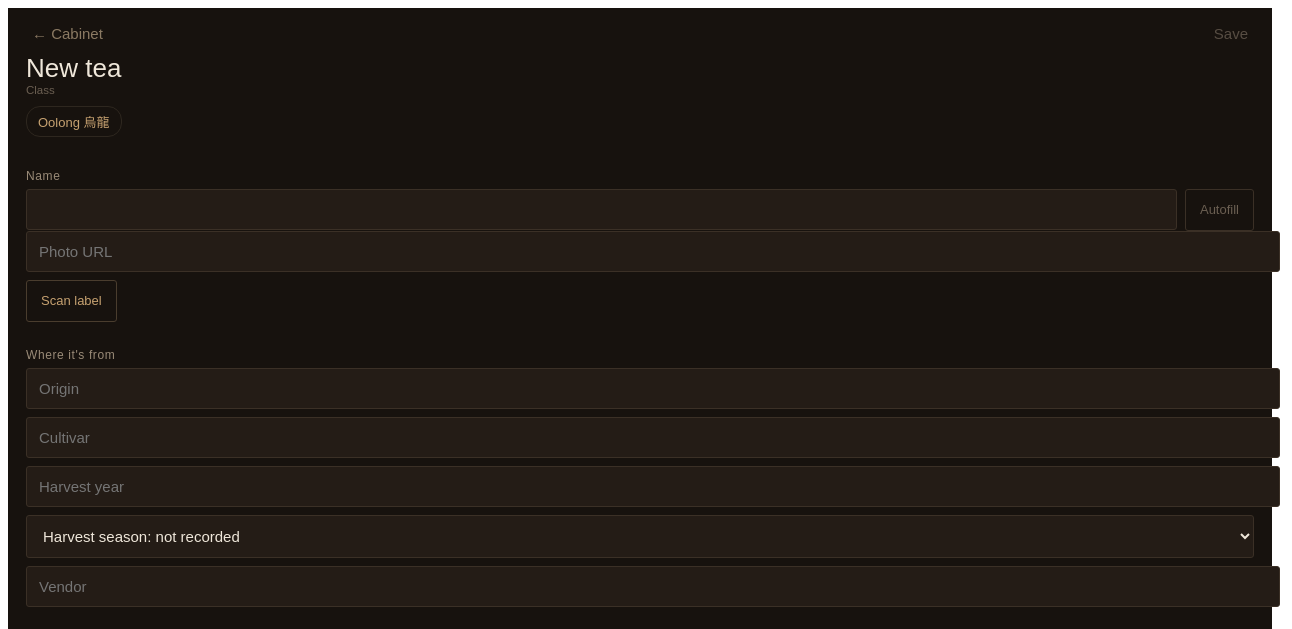
NewTeaPage › keeps the draft and shows the error when the save is rejected
This screenshot has width=1292, height=629.
Step 1. Type "Da Hong Pao" into the field with test id "field-name" → point(602, 209), box [26, 189, 1177, 230]
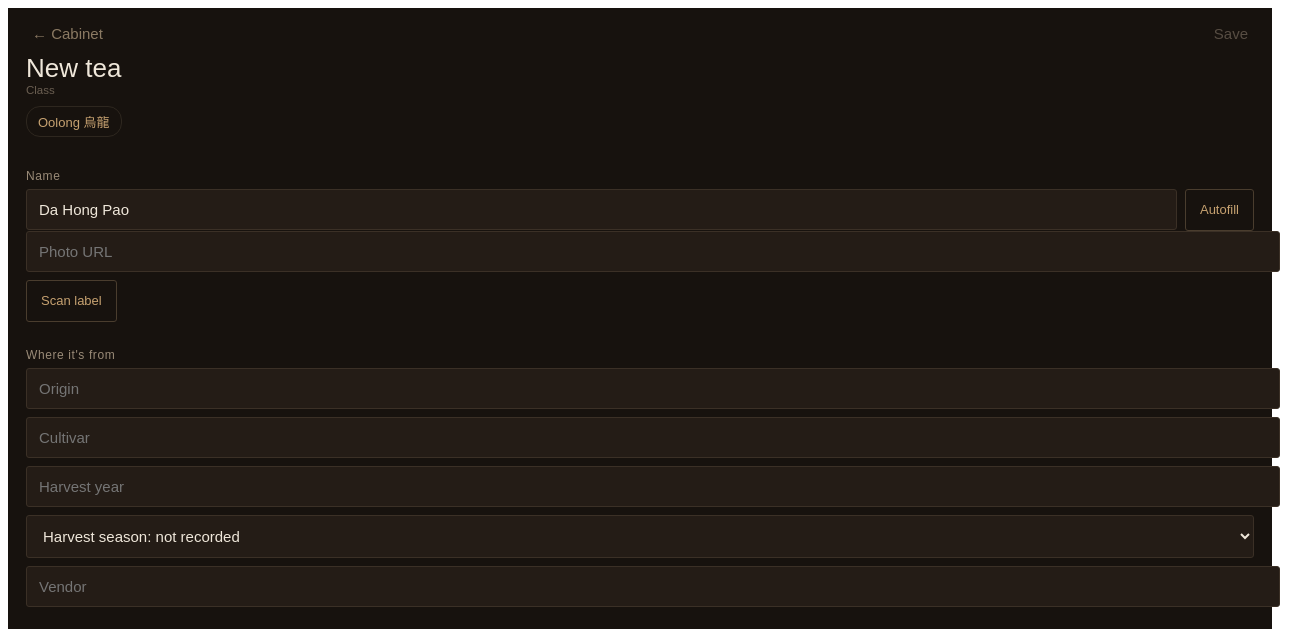
Step 2. Click the button with test id "chip-oolong" → point(74, 121), box [26, 106, 122, 137]
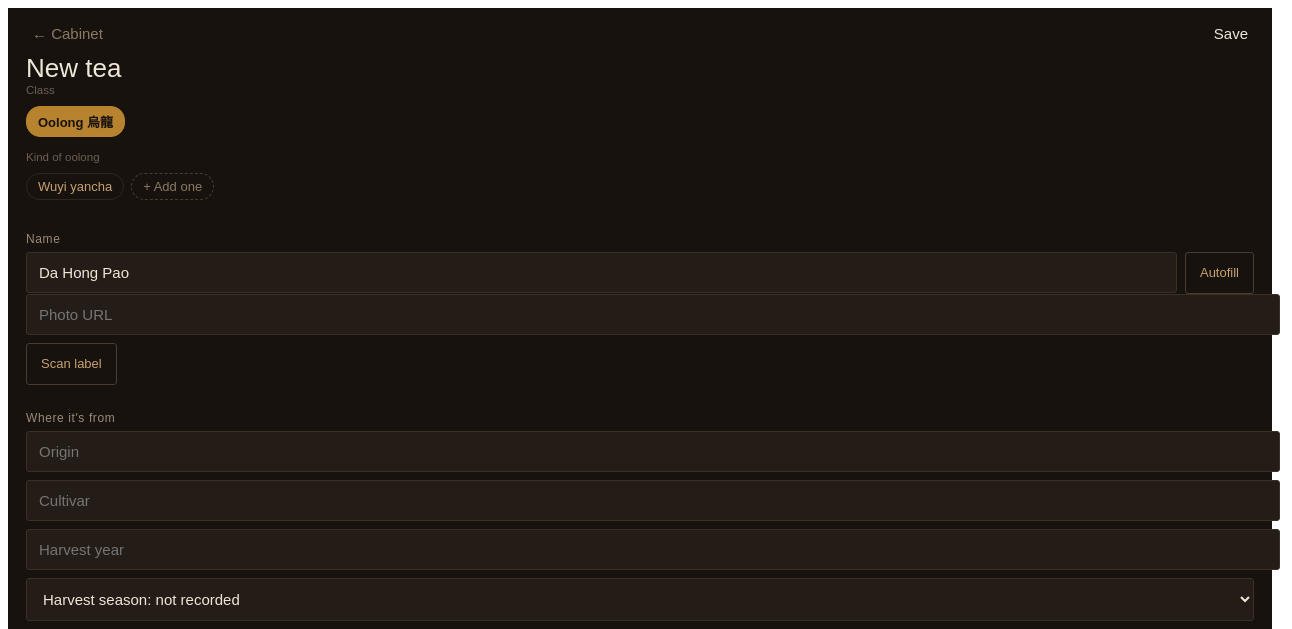
Step 3. Click the button with test id "new-save" → point(1231, 34), box [1208, 24, 1254, 43]
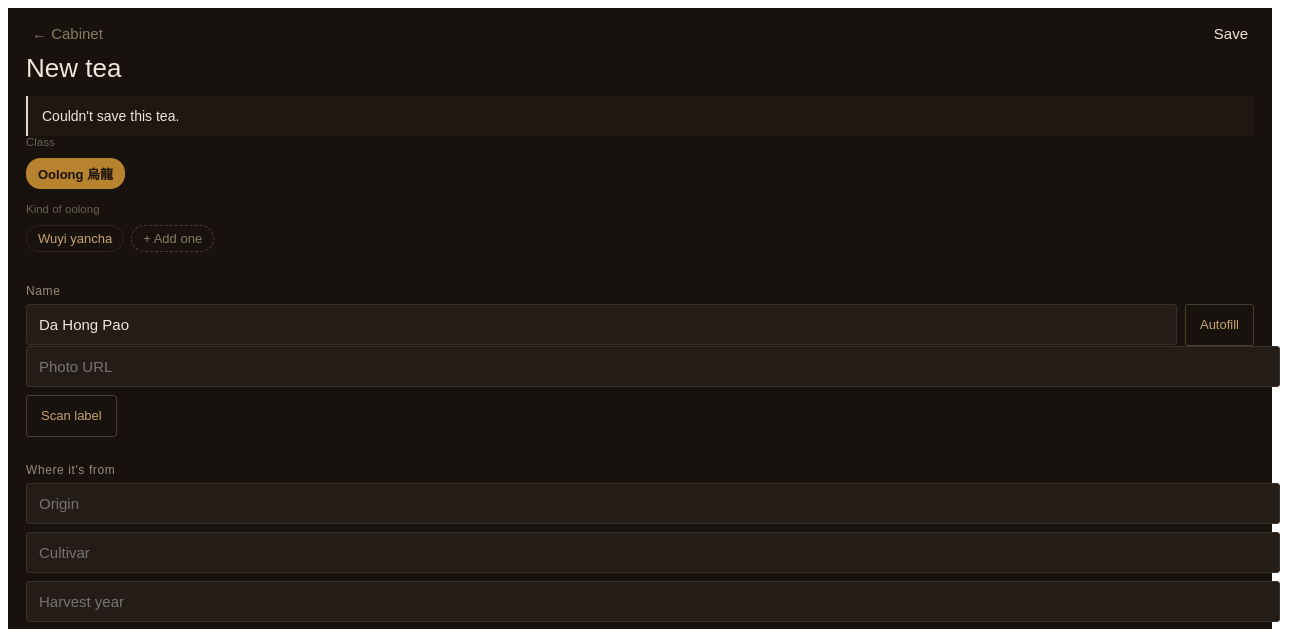
Now the text with test id "new-error" reads "Couldn't save this tea.", box [42, 108, 179, 124]
